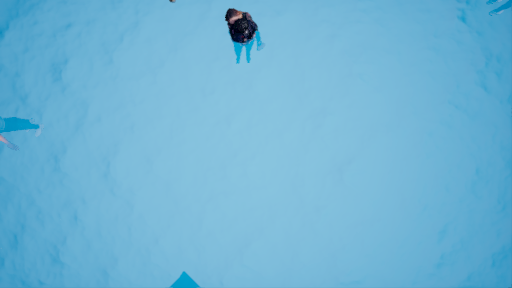person: (222, 5, 274, 70)
